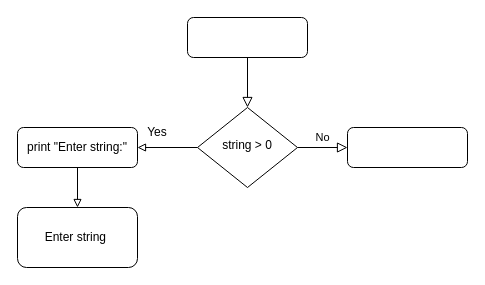
Some shapes in this 485 by 285 pixel diagram are drawn without their labels. The shapes that lost their labels are listed below. From the top down, each one's centre as x and y in pixels, then its label:
point (247, 37): Enter string length
point (407, 147): print "Error"
